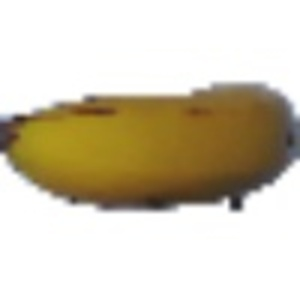banana: (4, 73, 297, 211)
